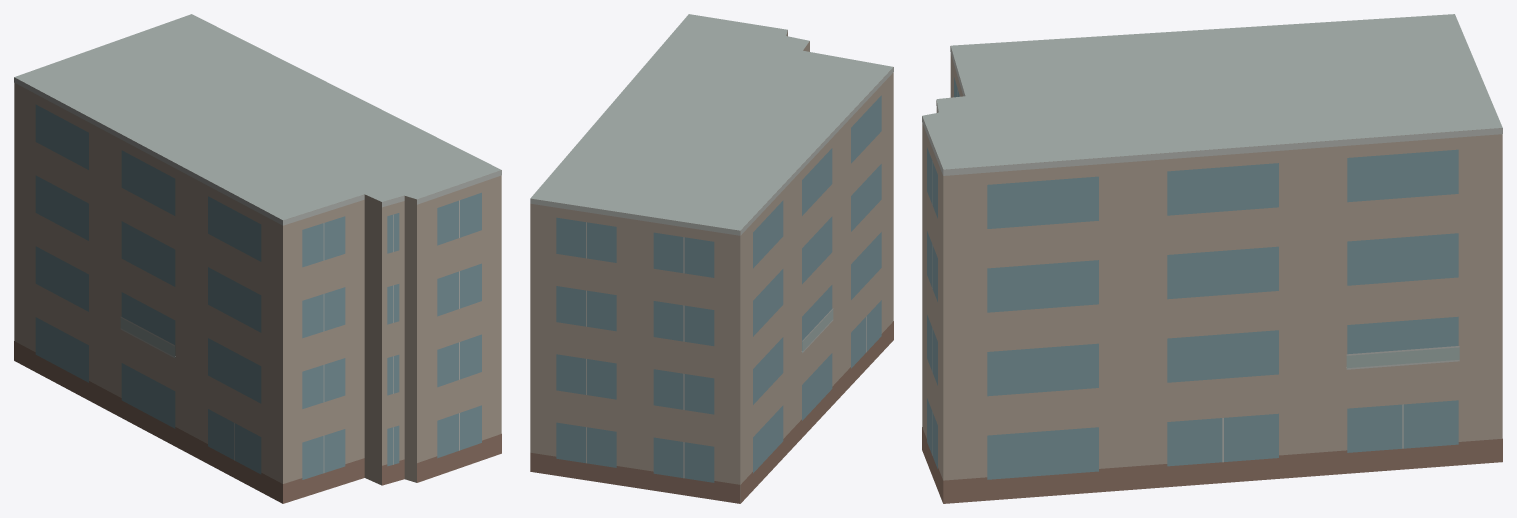
Rendered from survey-upis-32949572.glb.
The picture shows the model from 3 angles, left to right: view 1: azimuth 30°, elevation 25°; view 2: azimuth 150°, elevation 25°; view 3: azimuth 270°, elevation 25°; orthographic projection. The views are drawn at different scales.
Parts seen in each view (by area): view 1: survey-upis-32949572.tmp; view 2: survey-upis-32949572.tmp; view 3: survey-upis-32949572.tmp.
Boxes of the visible parts, x1=… form: survey-upis-32949572.tmp: x1=14, y1=14, x2=501, y2=503; survey-upis-32949572.tmp: x1=530, y1=14, x2=893, y2=503; survey-upis-32949572.tmp: x1=922, y1=14, x2=1502, y2=503.
Bounding box in the file's own units: 12.89 × 12.9 × 20.32.
